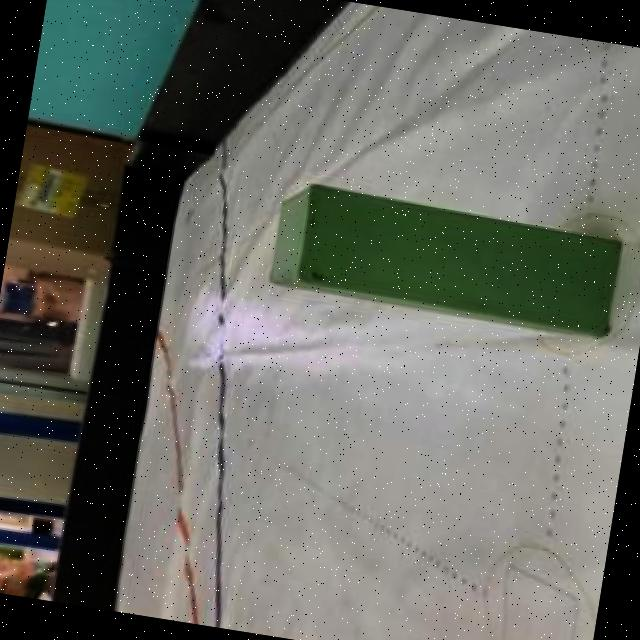greenbox: (263, 175, 628, 338)
